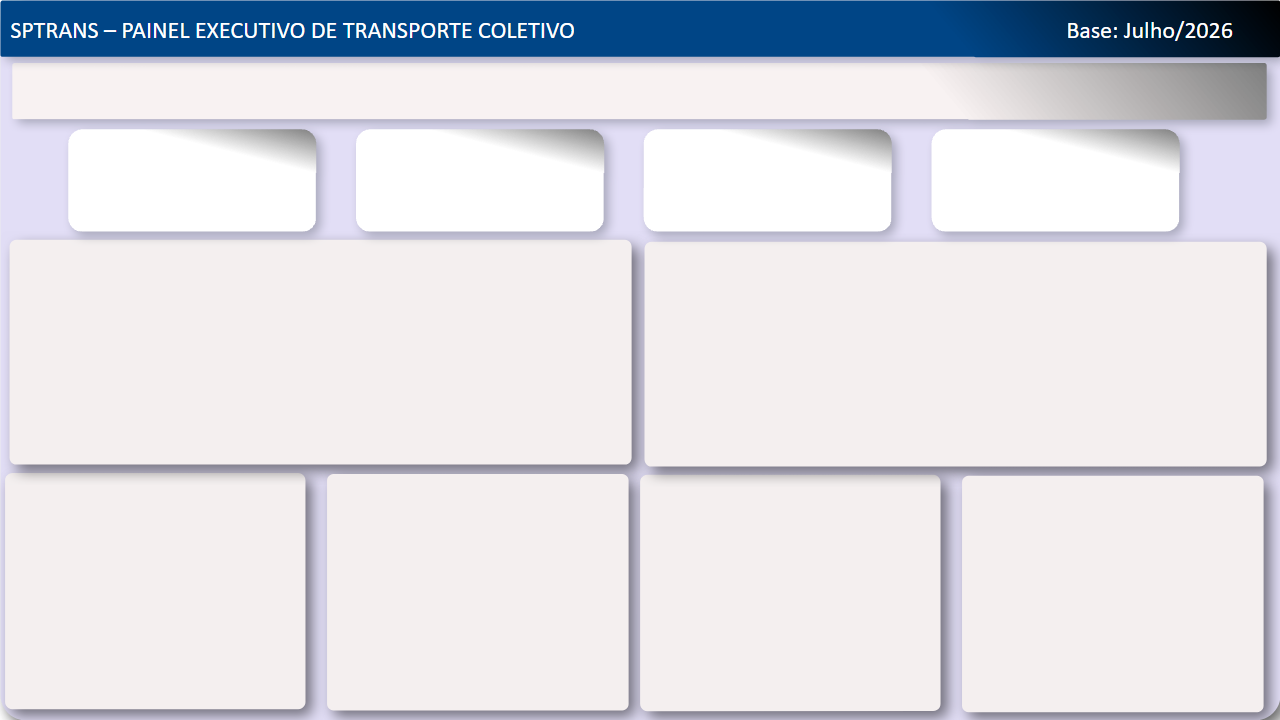

Layout of this report page (visuals, bound fields, positions):
{"tool":"powerbi","page":{"name":"Página 1","canvas":[1920,1080],"ordinal":0},"visuals":[{"type":"donutChart","title":"Participação por Grupo Operacional","fields":{"Category":["RELATÓRIO DE PASSAGEIROS PARA O PORTAL DE TRANSPARÊNCIA  Periodo : '01-JUL-2026'.Grupo"],"Y":["Sum(RELATÓRIO DE PASSAGEIROS PARA O PORTAL DE TRANSPARÊNCIA  Periodo : '01-JUL-2026'.Total Passageiros Transportados)"]},"box":[24.2,317.8,921.1,355.5],"z":0},{"type":"hundredPercentStackedColumnChart","title":"Perfil Tarifário por Grupo Operacional","fields":{"Category":["RELATÓRIO DE PASSAGEIROS PARA O PORTAL DE TRANSPARÊNCIA  Periodo : '01-JUL-2026'.Grupo"],"Y":["RELATÓRIO DE PASSAGEIROS PARA O PORTAL DE TRANSPARÊNCIA  Periodo : '01-JUL-2026'.Total Gratuidade","Sum(RELATÓRIO DE PASSAGEIROS PARA O PORTAL DE TRANSPARÊNCIA  Periodo : '01-JUL-2026'.Passageiros Pagantes )","Sum(RELATÓRIO DE PASSAGEIROS PARA O PORTAL DE TRANSPARÊNCIA  Periodo : '01-JUL-2026'.Passageiros Integração Ônibus)"]},"box":[976.3,327.2,923.8,346.1],"z":1000},{"type":"barChart","title":"Top 10 Empresas Operadoras","fields":{"Category":["RELATÓRIO DE PASSAGEIROS PARA O PORTAL DE TRANSPARÊNCIA  Periodo : '01-JUL-2026'.Empresa"],"Y":["Sum(RELATÓRIO DE PASSAGEIROS PARA O PORTAL DE TRANSPARÊNCIA  Periodo : '01-JUL-2026'.Total Passageiros Transportados)"]},"box":[24.2,684.1,460.5,383.8],"z":2000},{"type":"clusteredBarChart","title":"Top 10 Linhas com maior demanda","fields":{"Category":["RELATÓRIO DE PASSAGEIROS PARA O PORTAL DE TRANSPARÊNCIA  Periodo : '01-JUL-2026'.Linha"],"Y":["RELATÓRIO DE PASSAGEIROS PARA O PORTAL DE TRANSPARÊNCIA  Periodo : '01-JUL-2026'.Total Passageiros"]},"box":[502.5,683.8,442.5,383.8],"z":3000},{"type":"treemap","title":"Mix Tarifário e Tipos de Validação","fields":{"Values":["Sum(RELATÓRIO DE PASSAGEIROS PARA O PORTAL DE TRANSPARÊNCIA  Periodo : '01-JUL-2026'.Passageiros Comum e Vale Transporte","RELATÓRIO DE PASSAGEIROS PARA O PORTAL DE TRANSPARÊNCIA  Periodo : '01-JUL-2026'.Total Gratuidade","Sum(RELATÓRIO DE PASSAGEIROS PARA O PORTAL DE TRANSPARÊNCIA  Periodo : '01-JUL-2026'.Passageiros Com Gratuidade Estudant","Sum(RELATÓRIO DE PASSAGEIROS PARA O PORTAL DE TRANSPARÊNCIA  Periodo : '01-JUL-2026'.Passageiros Integração Ônibus)","Sum(RELATÓRIO DE PASSAGEIROS PARA O PORTAL DE TRANSPARÊNCIA  Periodo : '01-JUL-2026'.Passageiros Dinheiro)","Sum(RELATÓRIO DE PASSAGEIROS PARA O PORTAL DE TRANSPARÊNCIA  Periodo : '01-JUL-2026'.Passageiros Bilhete Comum Mensal)","Sum(RELATÓRIO DE PASSAGEIROS PARA O PORTAL DE TRANSPARÊNCIA  Periodo : '01-JUL-2026'.Passageiros Estudantes)"]},"box":[970.9,684.1,451.1,383.8],"z":4000},{"type":"columnChart","title":"Pagamento em Dinheiro por Grupo","fields":{"Category":["RELATÓRIO DE PASSAGEIROS PARA O PORTAL DE TRANSPARÊNCIA  Periodo : '01-JUL-2026'.Grupo"],"Y":["Sum(RELATÓRIO DE PASSAGEIROS PARA O PORTAL DE TRANSPARÊNCIA  Periodo : '01-JUL-2026'.Passageiros Dinheiro)"]},"box":[1438.2,684.1,456.5,383.8],"z":5000},{"type":"cardVisual","title":"Passageiros Transportados","fields":{"Data":["RELATÓRIO DE PASSAGEIROS PARA O PORTAL DE TRANSPARÊNCIA  Periodo : '01-JUL-2026'.Total Passageiros"]},"box":[79.5,156.2,422.8,161.6],"z":6000},{"type":"cardVisual","title":"% Gratuidade","fields":{"Data":["RELATÓRIO DE PASSAGEIROS PARA O PORTAL DE TRANSPARÊNCIA  Periodo : '01-JUL-2026'.Taxa de Gratuidade"]},"box":[526.5,156.2,418.8,161.6],"z":7000},{"type":"cardVisual","title":"% Pagantes","fields":{"Data":["RELATÓRIO DE PASSAGEIROS PARA O PORTAL DE TRANSPARÊNCIA  Periodo : '01-JUL-2026'.Taxa de Pagantes"]},"box":[969.6,156.2,424.2,161.6],"z":8000},{"type":"cardVisual","title":"% Integração","fields":{"Data":["RELATÓRIO DE PASSAGEIROS PARA O PORTAL DE TRANSPARÊNCIA  Periodo : '01-JUL-2026'.Taxa de Integração"]},"box":[1422,156.2,417.5,161.6],"z":9000},{"type":"slicer","fields":{"Values":["RELATÓRIO DE PASSAGEIROS PARA O PORTAL DE TRANSPARÊNCIA  Periodo : '01-JUL-2026'.Grupo"]},"box":[319.2,74.1,302,80],"z":10000},{"type":"slicer","fields":{"Values":["RELATÓRIO DE PASSAGEIROS PARA O PORTAL DE TRANSPARÊNCIA  Periodo : '01-JUL-2026'.Lote"]},"box":[641.7,74.4,286.8,70],"z":11000},{"type":"slicer","fields":{"Values":["RELATÓRIO DE PASSAGEIROS PARA O PORTAL DE TRANSPARÊNCIA  Periodo : '01-JUL-2026'.Empresa"]},"box":[949.2,74.4,284.1,70],"z":13000},{"type":"slicer","fields":{"Values":["RELATÓRIO DE PASSAGEIROS PARA O PORTAL DE TRANSPARÊNCIA  Periodo : '01-JUL-2026'.Linha"]},"box":[1254.3,74.3,448.6,70],"z":14000}]}

Visuals, with their boxes in screenshot pixels (x1, y1, x2, y2), scaled from the page's 1920x1080 canvas onto the 1280x720 screenshot:
"Participação por Grupo Operacional" donutChart: <box>16,212,630,449</box>
"Perfil Tarifário por Grupo Operacional" hundredPercentStackedColumnChart: <box>651,218,1267,449</box>
"Top 10 Empresas Operadoras" barChart: <box>16,456,323,712</box>
"Top 10 Linhas com maior demanda" clusteredBarChart: <box>335,456,630,712</box>
"Mix Tarifário e Tipos de Validação" treemap: <box>647,456,948,712</box>
"Pagamento em Dinheiro por Grupo" columnChart: <box>959,456,1263,712</box>
"Passageiros Transportados" cardVisual: <box>53,104,335,212</box>
"% Gratuidade" cardVisual: <box>351,104,630,212</box>
"% Pagantes" cardVisual: <box>646,104,929,212</box>
"% Integração" cardVisual: <box>948,104,1226,212</box>
slicer - RELATÓRIO DE PASSAGEIROS PARA O PORTAL DE TRANSPARÊNCIA  Periodo : '01-JUL-2026'.Grupo: <box>213,49,414,103</box>
slicer - RELATÓRIO DE PASSAGEIROS PARA O PORTAL DE TRANSPARÊNCIA  Periodo : '01-JUL-2026'.Lote: <box>428,50,619,96</box>
slicer - RELATÓRIO DE PASSAGEIROS PARA O PORTAL DE TRANSPARÊNCIA  Periodo : '01-JUL-2026'.Empresa: <box>633,50,822,96</box>
slicer - RELATÓRIO DE PASSAGEIROS PARA O PORTAL DE TRANSPARÊNCIA  Periodo : '01-JUL-2026'.Linha: <box>836,50,1135,96</box>
